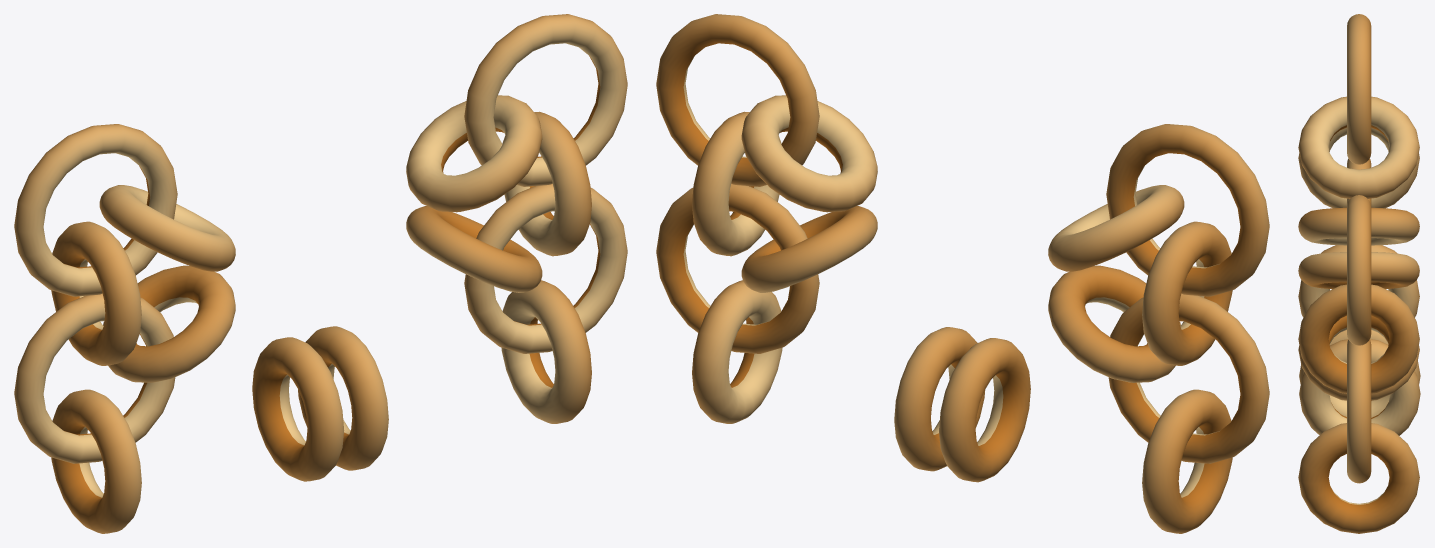
File: hashigo_m_b.fbx
The picture shows the model from 3 angles, left to right: view 1: azimuth 30°, elevation 25°; view 2: azimuth 150°, elevation 25°; view 3: azimuth 270°, elevation 25°; orthographic projection. The views are drawn at different scales.
Visible parts, largest first — view 1: m3; view 2: m3; view 3: m3.
Part boxes in pixels (box(x1,y1,x2,y2)): m3: box(14, 14, 627, 533); m3: box(656, 14, 1269, 533); m3: box(1298, 14, 1420, 533).
Size of the model in its own units: 19.09 by 12.02 by 4.02.
Materials: 1 (1 with a texture image).
